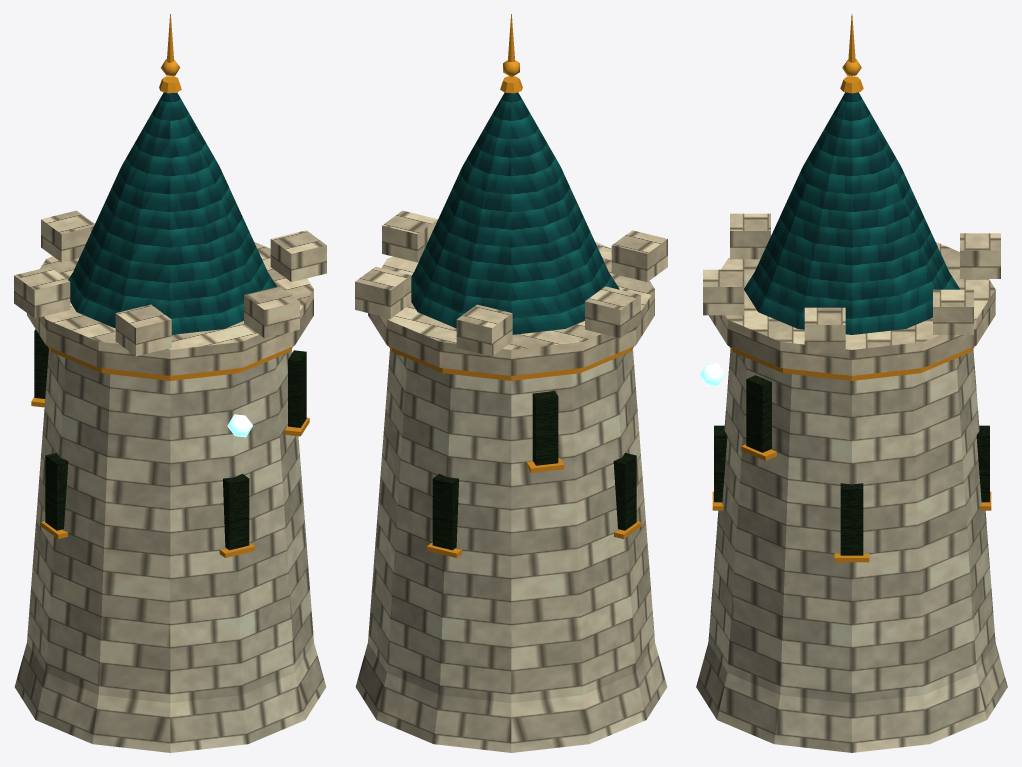
Rendered from keep_tower.glb.
3 renders of one model, left to right at view 1: azimuth 30°, elevation 25°; view 2: azimuth 150°, elevation 25°; view 3: azimuth 270°, elevation 25°, orthographic.
Visible parts, largest first — view 1: keep_tower; view 2: keep_tower; view 3: keep_tower.
Part boxes in pixels (x1,y1,x2,y2): keep_tower: (14, 14, 326, 752); keep_tower: (355, 14, 667, 752); keep_tower: (696, 14, 1007, 752).
Bounding box in the file's own units: 3.8 × 9.05 × 3.8.
5 materials, 3 textured.
